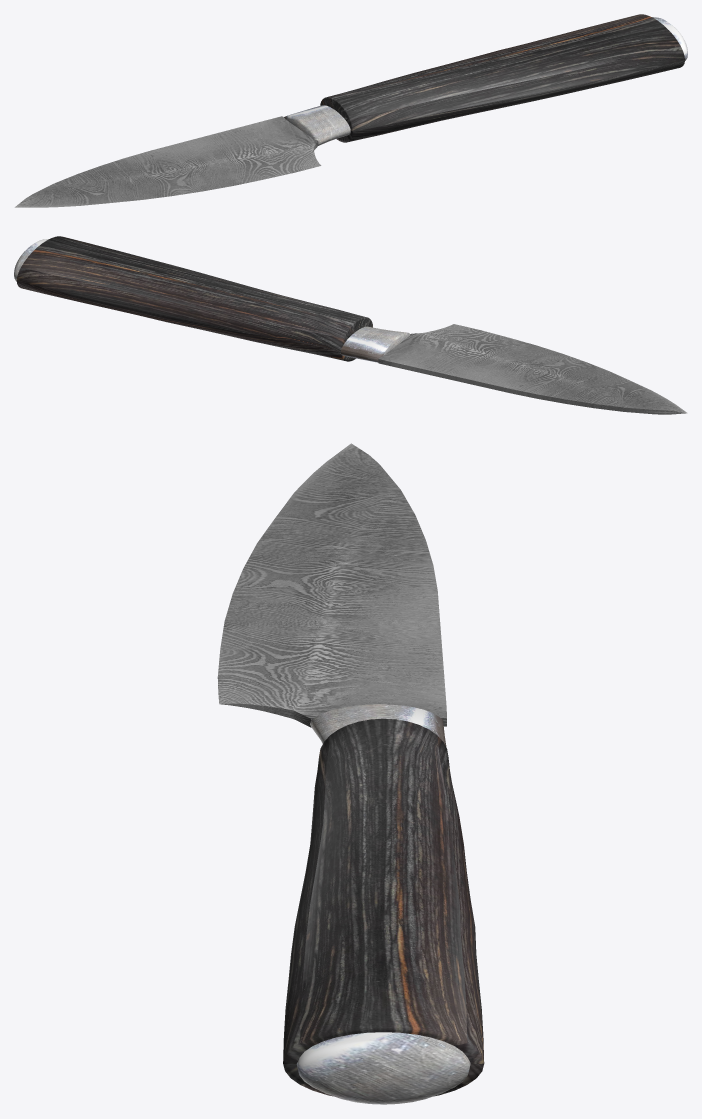
Rendered from knife_short.glb.
3 renders of one model, top to bottom at view 1: azimuth 30°, elevation 25°; view 2: azimuth 150°, elevation 25°; view 3: azimuth 270°, elevation 25°, orthographic. The views are drawn at different scales.
Parts seen in each view (by area): view 1: Circle.002, Plane, Circle.003, Circle.004; view 2: Circle.002, Plane, Circle.003, Circle.004; view 3: Circle.002, Plane, Circle.004, Circle.003.
Boxes of the visible parts, x1,y1,x2,y2 form: Circle.002: [320, 14, 684, 142]; Plane: [14, 116, 321, 207]; Circle.003: [284, 105, 350, 145]; Circle.004: [652, 17, 687, 60]; Circle.002: [16, 236, 372, 361]; Plane: [378, 324, 687, 414]; Circle.003: [341, 326, 410, 362]; Circle.004: [14, 239, 48, 281]; Circle.002: [283, 718, 484, 1096]; Plane: [217, 443, 446, 727]; Circle.004: [296, 1032, 470, 1104]; Circle.003: [310, 704, 446, 746].
Size of the model in its own units: 4.27 by 0.2365 by 0.7561.
4 materials, 4 textured.
